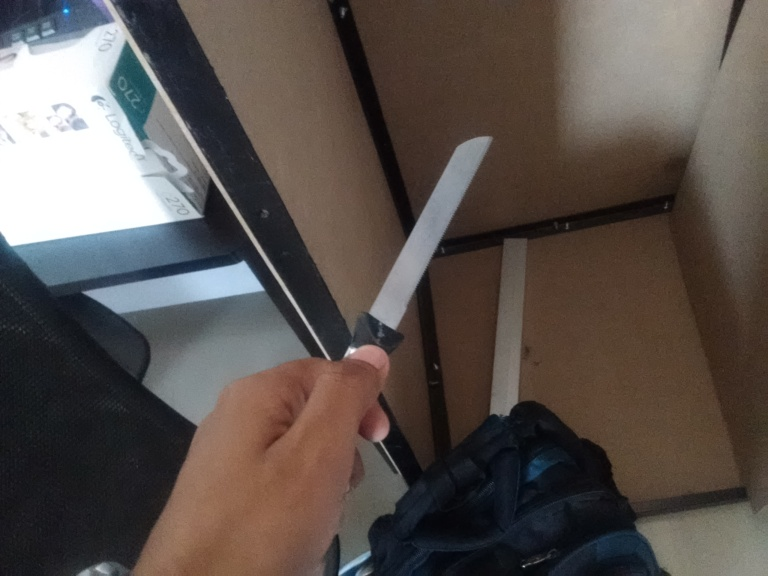knife: (394, 137, 494, 351)
